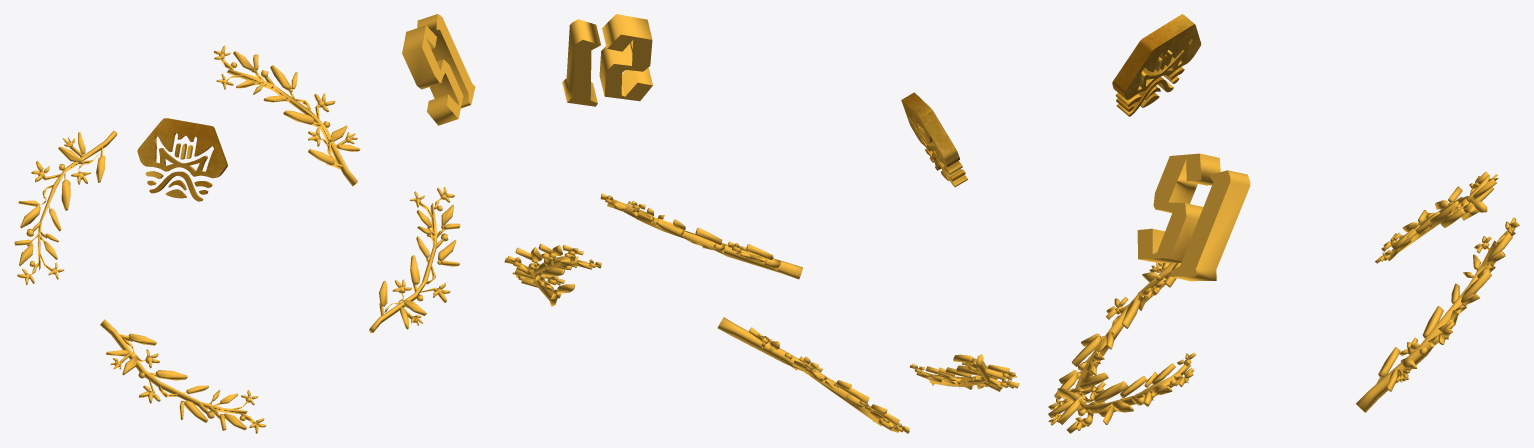
3 renders of one model, left to right at view 1: azimuth 30°, elevation 25°; view 2: azimuth 150°, elevation 25°; view 3: azimuth 270°, elevation 25°, orthographic. The views are drawn at different scales.
Visible parts, largest first — view 1: legacy_aura; view 2: legacy_aura; view 3: legacy_aura.
Boxes of the visible parts, x1,y1,x2,y2 form: legacy_aura: [14, 14, 475, 433]; legacy_aura: [504, 14, 1019, 433]; legacy_aura: [1048, 14, 1519, 433].
Bounding box in the file's own units: 0.8467 × 0.6611 × 0.7082.
Materials: 2 (1 with a texture image).
